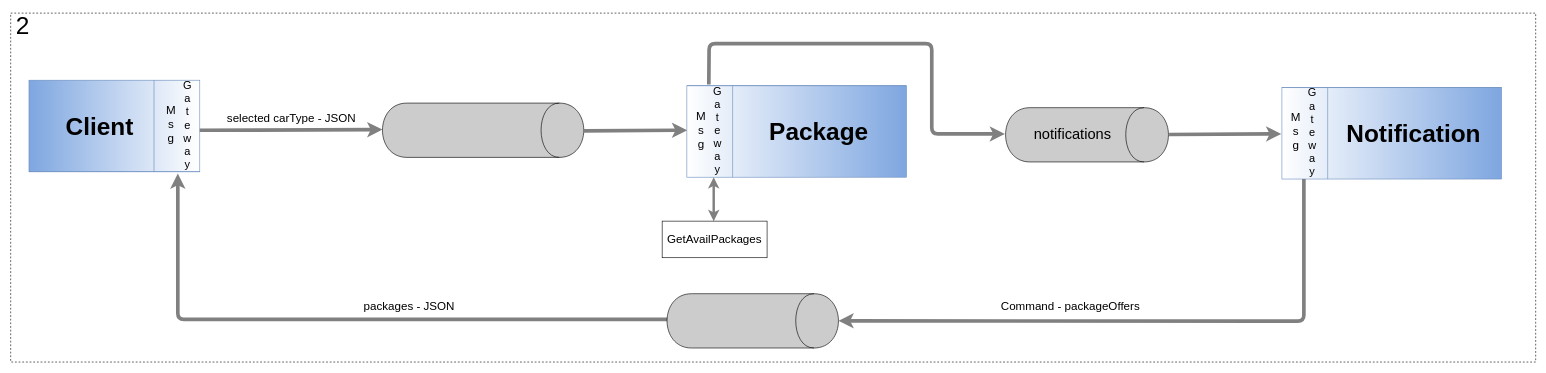
Image size: 1546x373. Some labels were removed from this diagram. Here are the shapes that lost their labels. From the top down, the centre of each, then its label:
At pixel 483 129: "carType_request".
At pixel 752 320: "notifications.send".
